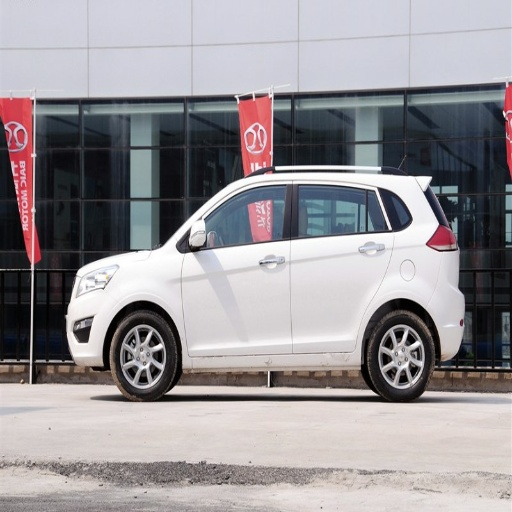back_bumper: (430, 291, 466, 356)
back_left_door: (292, 180, 393, 353)
front_left_door: (180, 181, 292, 357)
